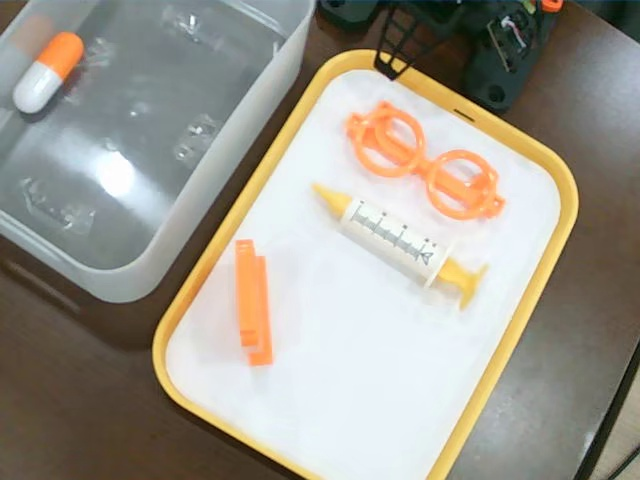pill: (11, 29, 87, 117)
syringe: (308, 180, 494, 308)
